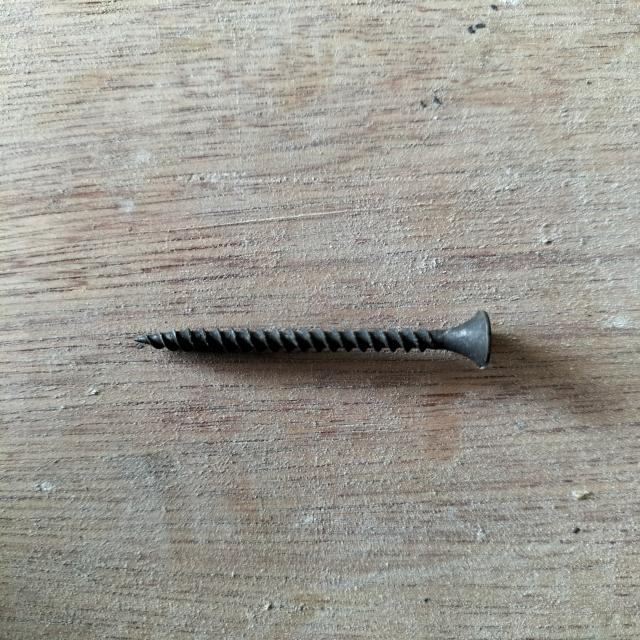screw: (136, 310, 492, 366)
